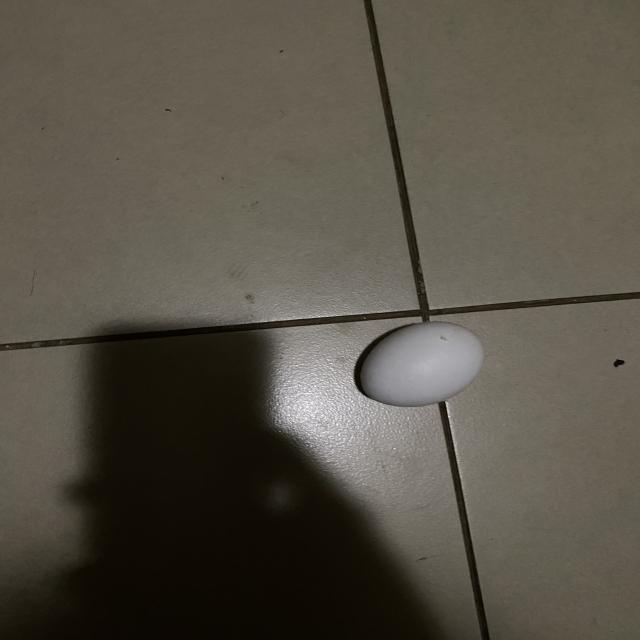egg: (353, 316, 493, 410)
